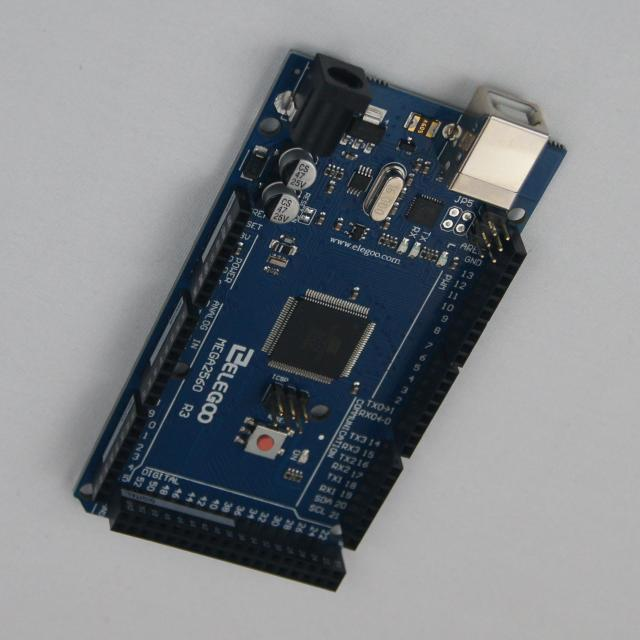Arduino Mega 2560 -Blue-: (76, 54, 566, 590)
